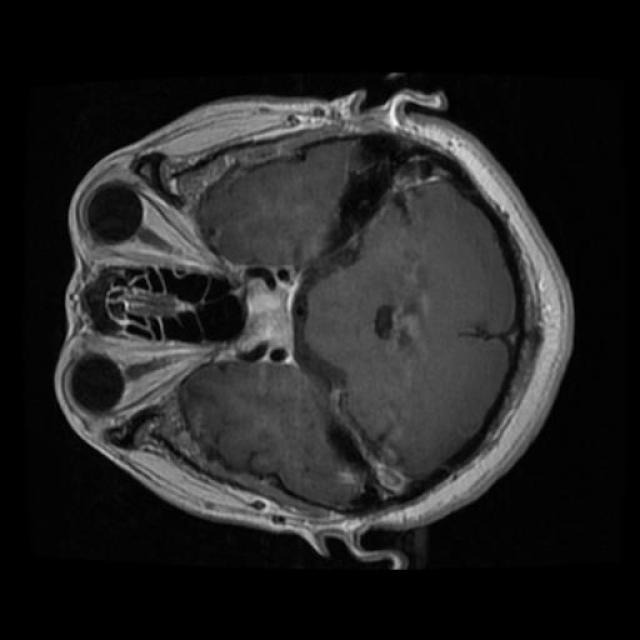Pituitary: (219, 265, 301, 366)
